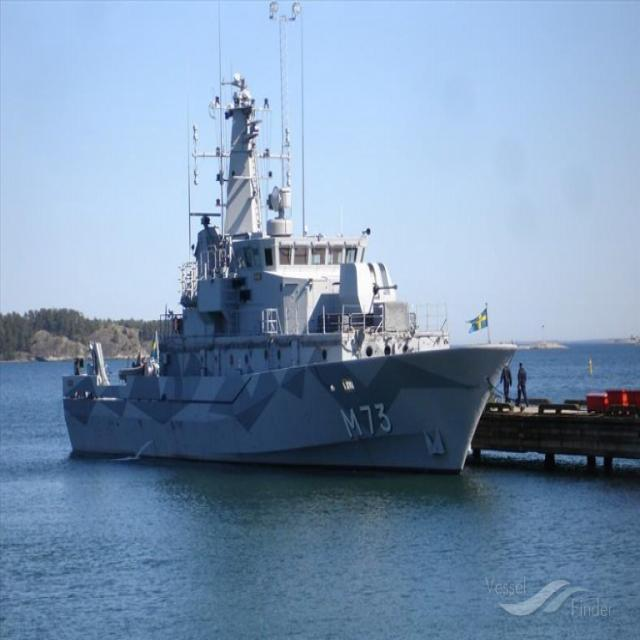OCR: (335, 398, 394, 445)
